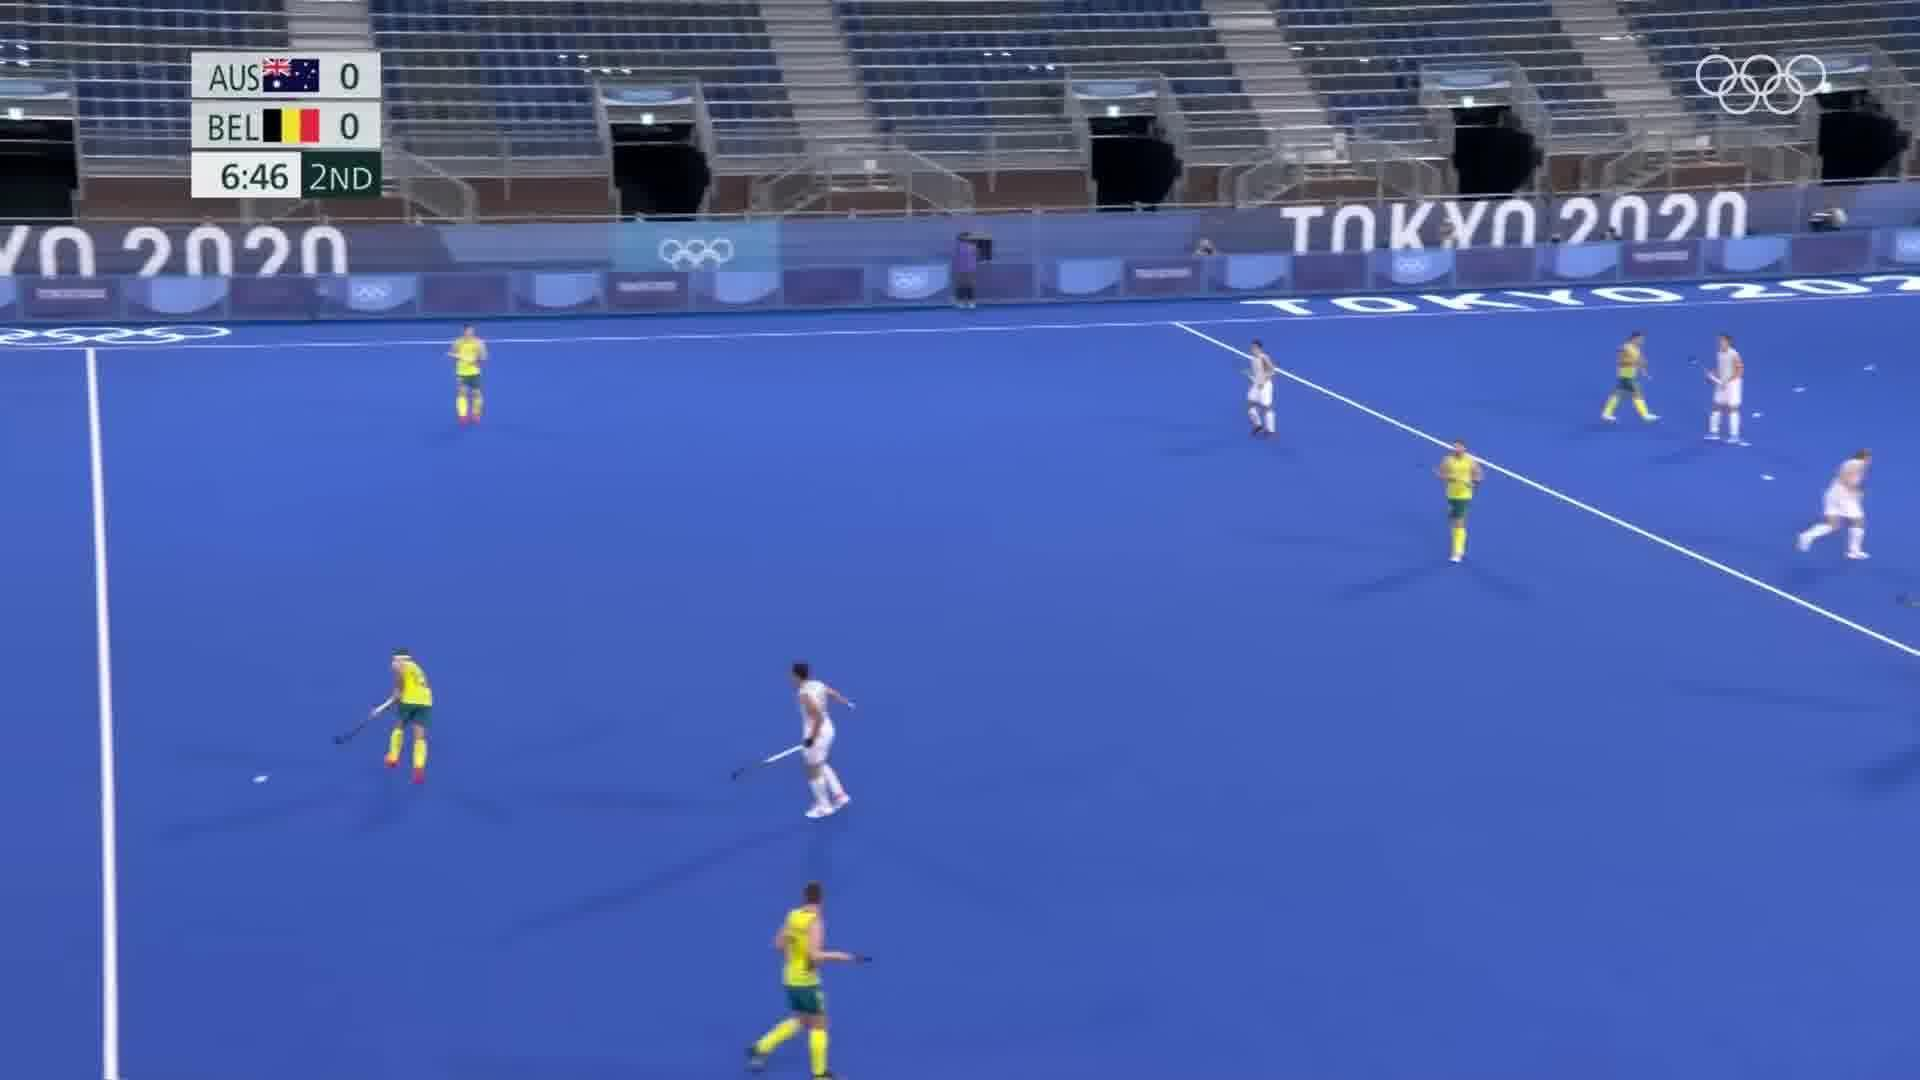ball: (243, 769, 279, 790)
